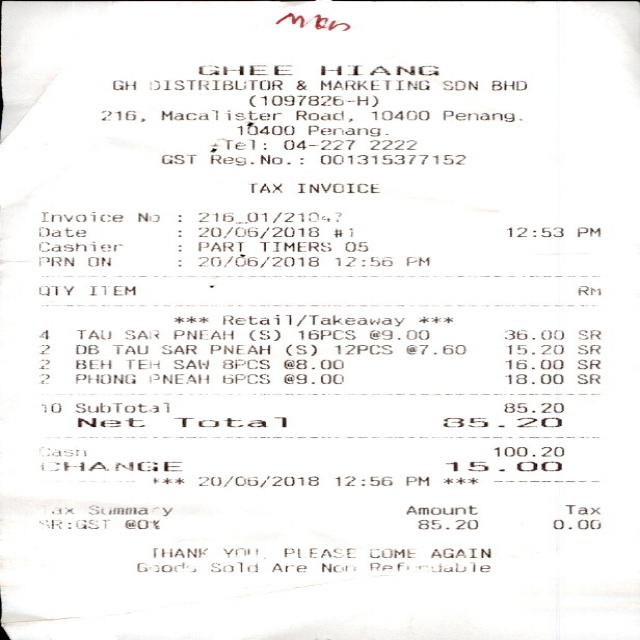text: (220, 313, 401, 326), (196, 210, 339, 222), (197, 253, 316, 267), (246, 94, 375, 106), (195, 225, 316, 237), (38, 461, 182, 471), (319, 154, 462, 164), (197, 474, 316, 486), (152, 80, 280, 90), (172, 416, 286, 427), (160, 109, 279, 119), (442, 416, 561, 426), (318, 64, 436, 74), (443, 460, 559, 470), (318, 80, 427, 90), (368, 562, 488, 571), (75, 401, 167, 412), (196, 64, 290, 74), (86, 504, 170, 515), (443, 109, 513, 121), (38, 241, 122, 251), (295, 182, 376, 192), (39, 211, 120, 221), (236, 120, 292, 134), (307, 124, 378, 135), (280, 547, 354, 557), (490, 446, 562, 456), (404, 504, 476, 514), (36, 518, 108, 528), (257, 241, 328, 251), (76, 417, 143, 427), (503, 401, 562, 412), (283, 139, 353, 148), (146, 374, 208, 384), (280, 358, 341, 368), (294, 109, 349, 120), (208, 343, 267, 353), (75, 373, 134, 383), (332, 255, 390, 265), (503, 329, 561, 339), (368, 329, 426, 339), (172, 329, 230, 339), (404, 343, 462, 353), (504, 358, 562, 368), (284, 374, 342, 384), (332, 475, 390, 485), (418, 518, 476, 528), (429, 547, 487, 557), (369, 109, 426, 119), (296, 329, 353, 339), (332, 343, 389, 353), (506, 343, 561, 353), (506, 373, 561, 383), (135, 562, 194, 571), (147, 547, 205, 556), (507, 227, 561, 236), (550, 518, 598, 528), (99, 110, 142, 121), (196, 241, 243, 251), (221, 358, 268, 368), (221, 373, 267, 383), (368, 139, 413, 149), (366, 548, 414, 557), (208, 562, 256, 571), (39, 227, 84, 236), (88, 285, 133, 294), (208, 154, 244, 165), (222, 139, 264, 148), (490, 80, 526, 90), (284, 343, 314, 355), (123, 518, 159, 528), (247, 182, 282, 192), (75, 328, 110, 338), (172, 358, 207, 368), (74, 358, 109, 368), (564, 504, 599, 514), (160, 154, 193, 164), (248, 329, 278, 340), (160, 343, 193, 353), (442, 80, 474, 90), (38, 255, 70, 265), (38, 285, 70, 295), (114, 344, 146, 354), (270, 562, 304, 571), (45, 448, 83, 456), (127, 358, 157, 368), (320, 562, 353, 571), (220, 546, 255, 554), (122, 330, 156, 338), (404, 255, 428, 265), (72, 343, 96, 353), (574, 343, 598, 353), (574, 358, 598, 368), (574, 374, 598, 384), (111, 80, 134, 90), (86, 256, 109, 266), (258, 154, 280, 164), (135, 211, 157, 221), (343, 241, 365, 251), (574, 227, 598, 236), (578, 329, 598, 339), (404, 476, 426, 485), (331, 227, 352, 236), (40, 402, 59, 411), (50, 506, 73, 513), (578, 286, 598, 294), (35, 343, 49, 354), (37, 358, 48, 368), (37, 374, 48, 384), (295, 80, 304, 90), (38, 330, 48, 338)
